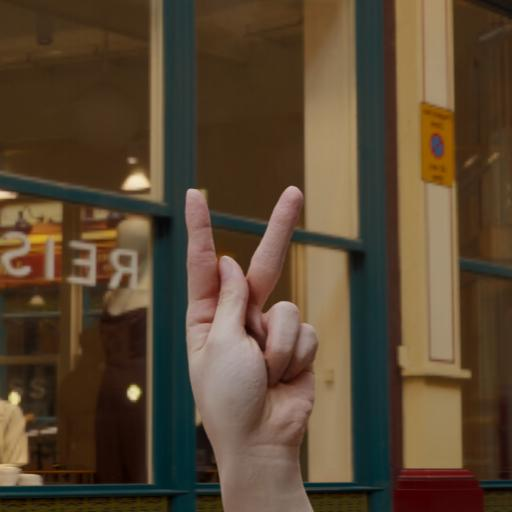K: (172, 158, 329, 448)
